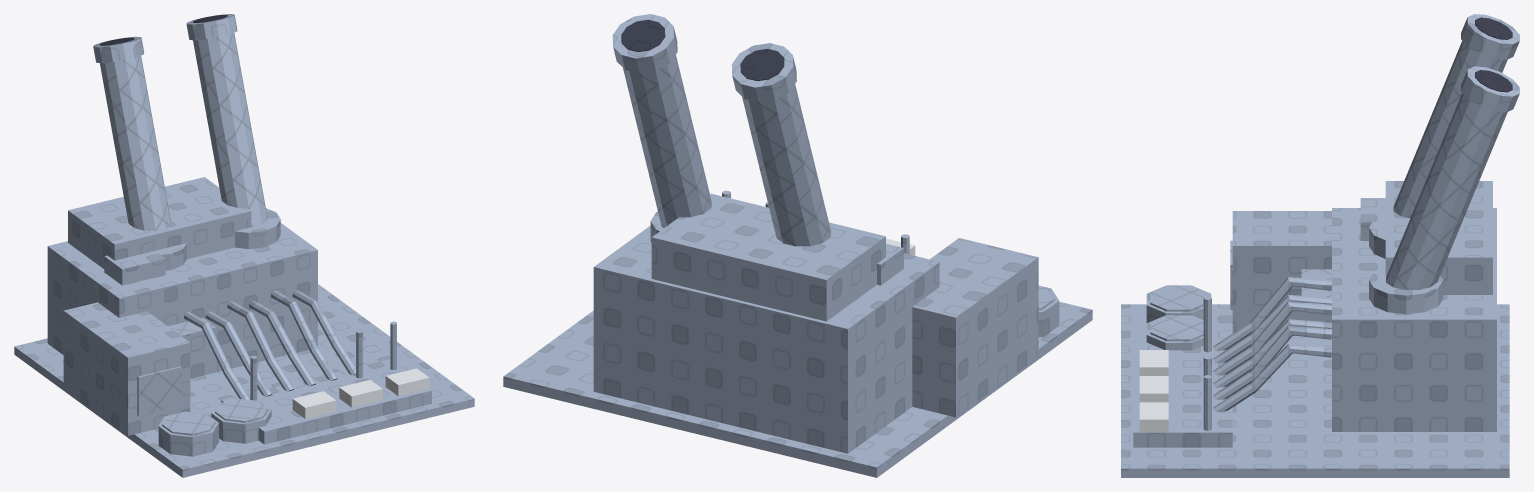
Rendered from Centrale_Tuyaux.fbx.
The picture shows the model from 3 angles, left to right: view 1: azimuth 30°, elevation 25°; view 2: azimuth 150°, elevation 25°; view 3: azimuth 270°, elevation 25°; orthographic projection. The views are drawn at different scales.
Parts seen in each view (by area): view 1: Centrale_Tuyaux; view 2: Centrale_Tuyaux; view 3: Centrale_Tuyaux.
Boxes of the visible parts, x1=… form: Centrale_Tuyaux: x1=14, y1=14, x2=474, y2=477; Centrale_Tuyaux: x1=503, y1=14, x2=1092, y2=477; Centrale_Tuyaux: x1=1121, y1=14, x2=1519, y2=477.
Size of what is drawn, in the model's own units: 960 by 928 by 965.
Materials: 4 (3 with a texture image).
